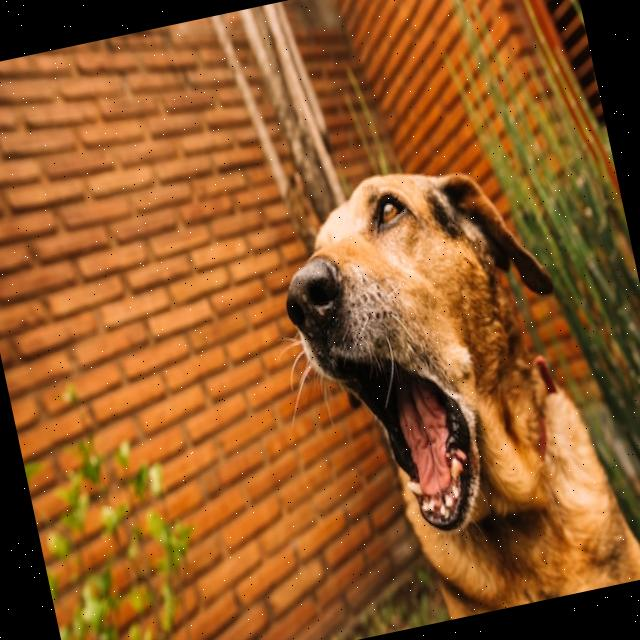Dog: (261, 137, 640, 639)
